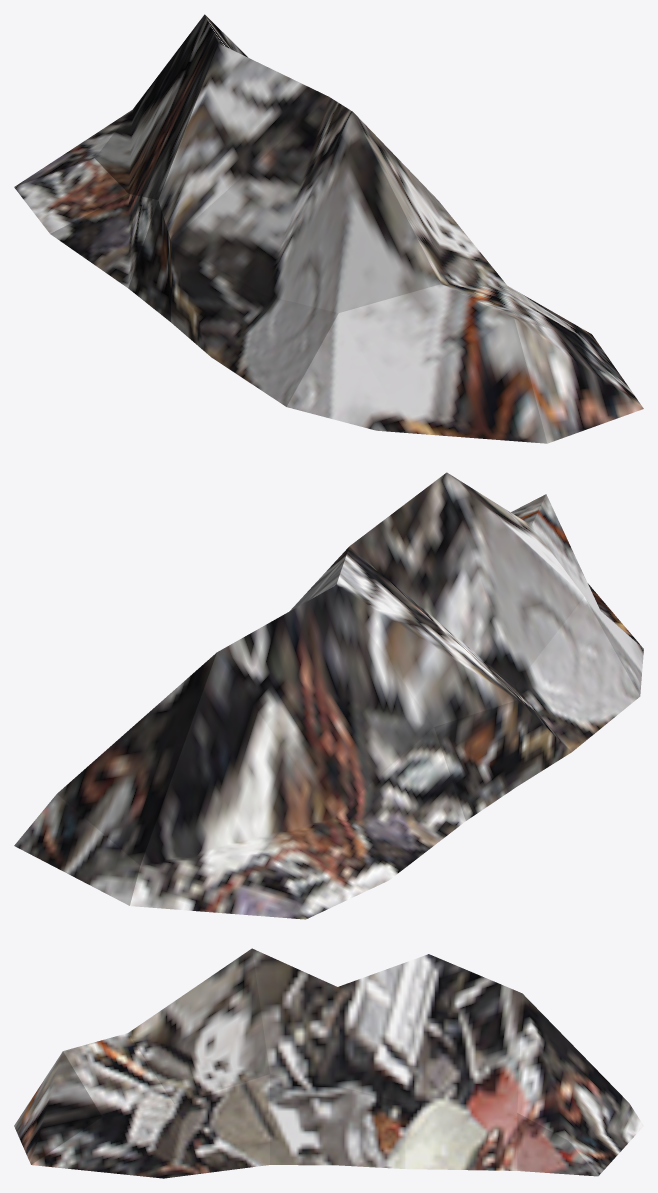
File: Kucha.fbx
The picture shows the model from 3 angles, top to bottom: view 1: azimuth 30°, elevation 25°; view 2: azimuth 150°, elevation 25°; view 3: azimuth 270°, elevation 25°; orthographic projection. The views are drawn at different scales.
Parts seen in each view (by area): view 1: Cube; view 2: Cube; view 3: Cube.
Boxes of the visible parts, left/top/right/bottom form: Cube: left=14, top=14, right=643, bottom=443; Cube: left=14, top=472, right=643, bottom=919; Cube: left=14, top=948, right=643, bottom=1178.
Bounding box in the file's own units: 196 × 135 × 465.
1 material, 1 textured.
